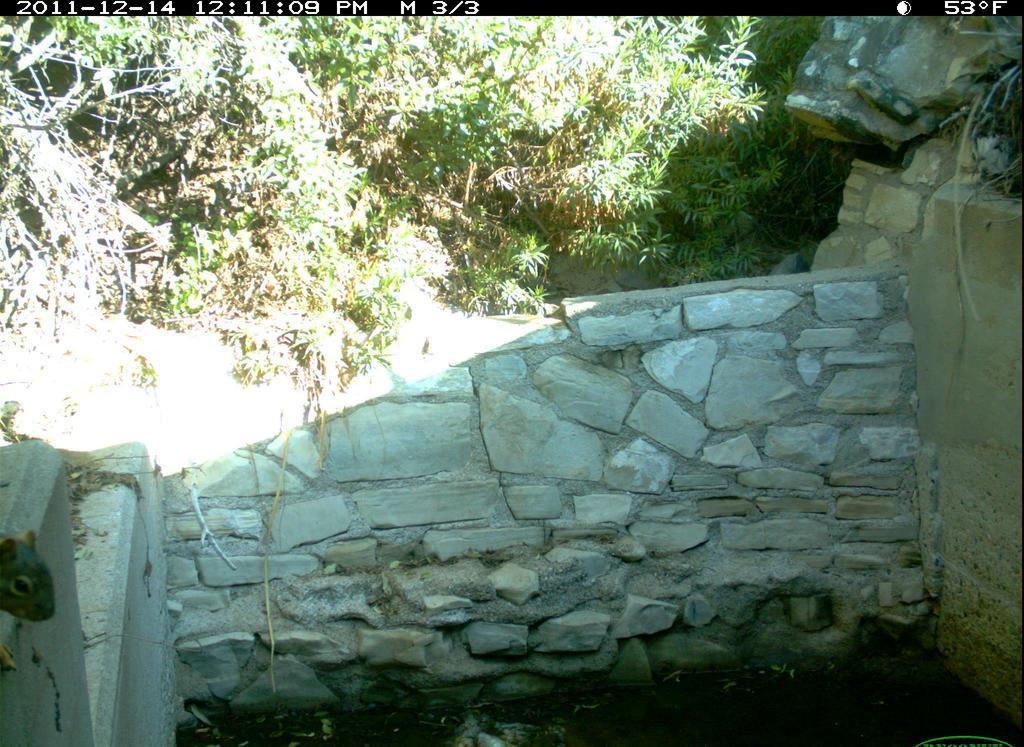squirrel: (1, 520, 65, 646)
